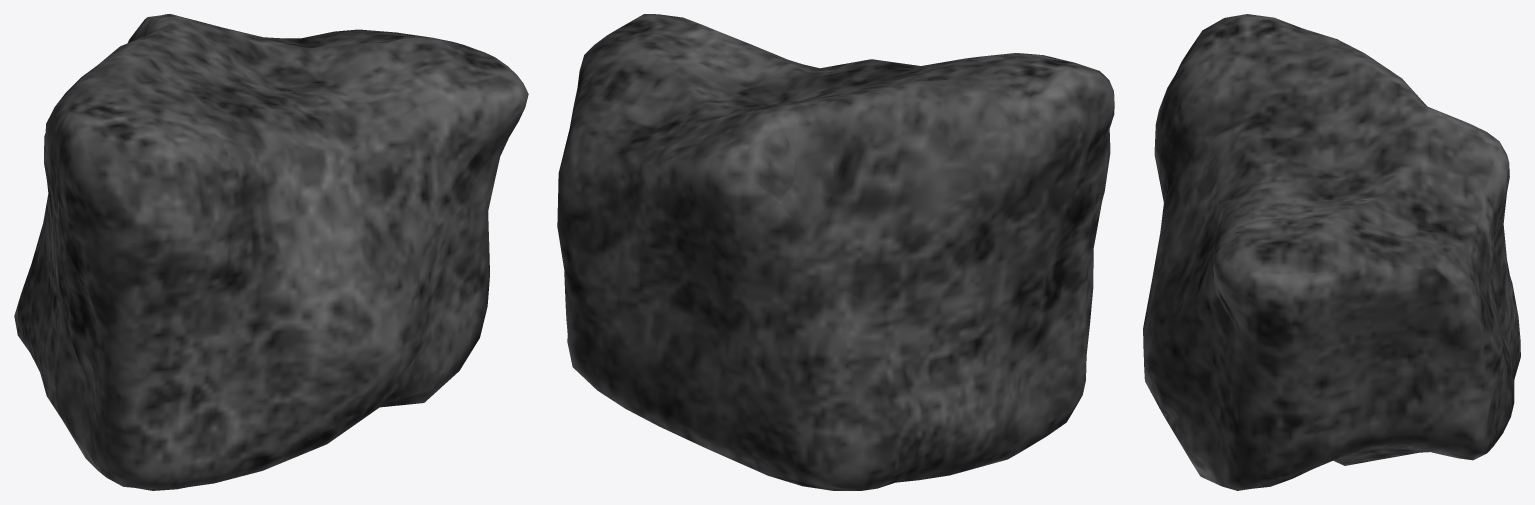
The model's file is asteroid1.glb.
The picture shows the model from 3 angles, left to right: view 1: azimuth 30°, elevation 25°; view 2: azimuth 150°, elevation 25°; view 3: azimuth 270°, elevation 25°; orthographic projection. The views are drawn at different scales.
Parts seen in each view (by area): view 1: Asteroid_no_10_Material #3_0; view 2: Asteroid_no_10_Material #3_0; view 3: Asteroid_no_10_Material #3_0.
Boxes of the visible parts, bbox=[...] form: Asteroid_no_10_Material #3_0: bbox=[14, 14, 528, 490]; Asteroid_no_10_Material #3_0: bbox=[557, 14, 1114, 490]; Asteroid_no_10_Material #3_0: bbox=[1143, 14, 1520, 490].
Size of the model in its own units: 4.46 by 3.43 by 3.28.
1 material, 1 textured.
